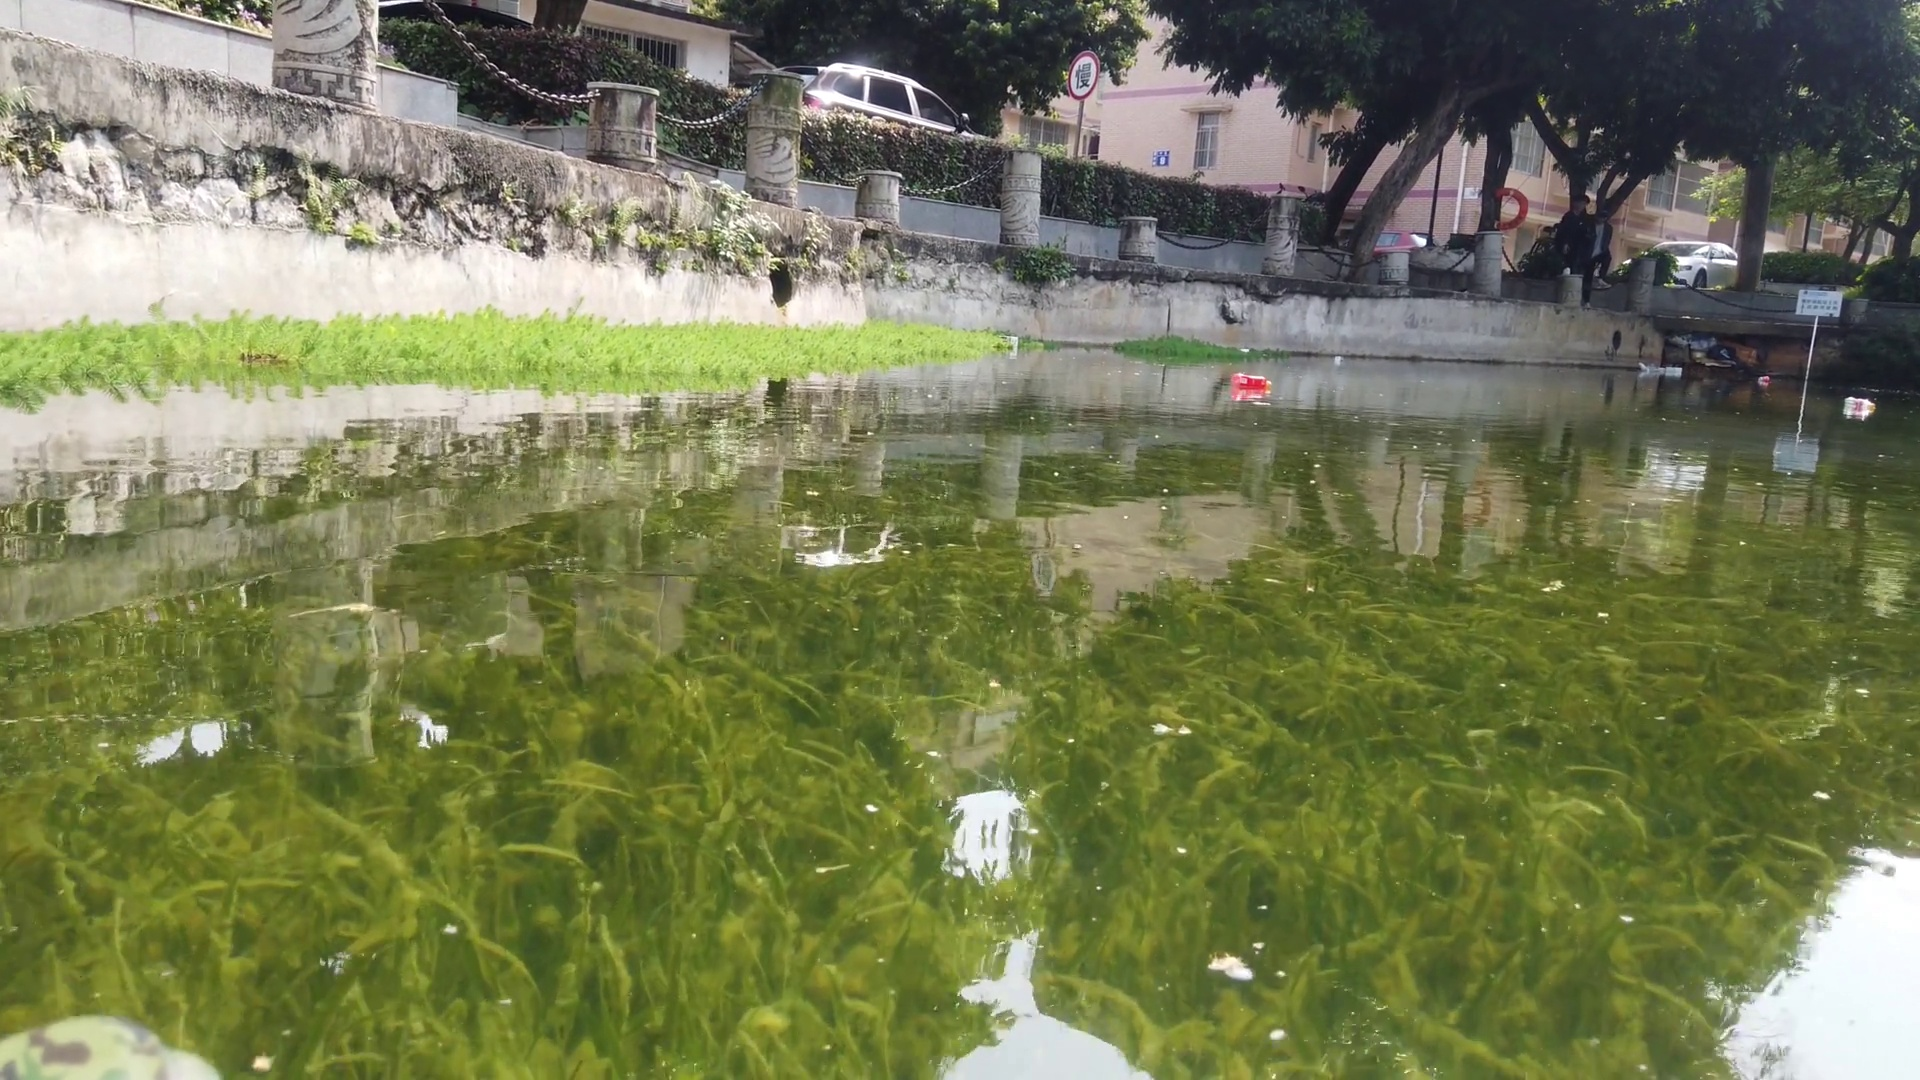bottle: (1229, 373, 1273, 394), (1844, 394, 1879, 415), (1756, 373, 1772, 386)
carton: (997, 334, 1021, 347), (1663, 363, 1685, 376), (1332, 353, 1345, 367)
plastic: (1633, 360, 1662, 378)
